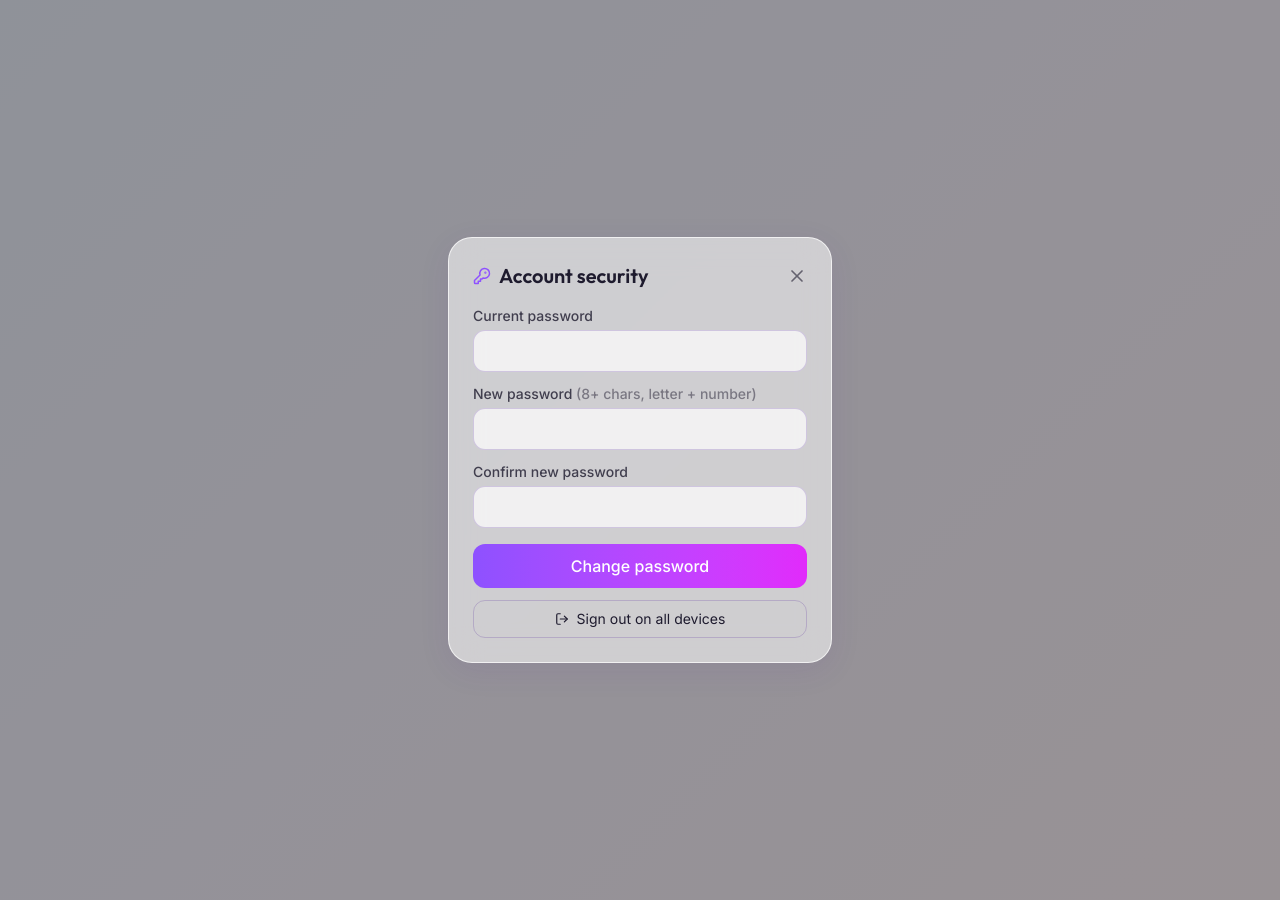
Scenario: ChangePassword dialog › submits and confirms success
This screenshot has width=1280, height=900.
Type "oldpass123" into the password field labelled "Current password".
click(640, 351); type("oldpass123")  # box [473,330,807,372]
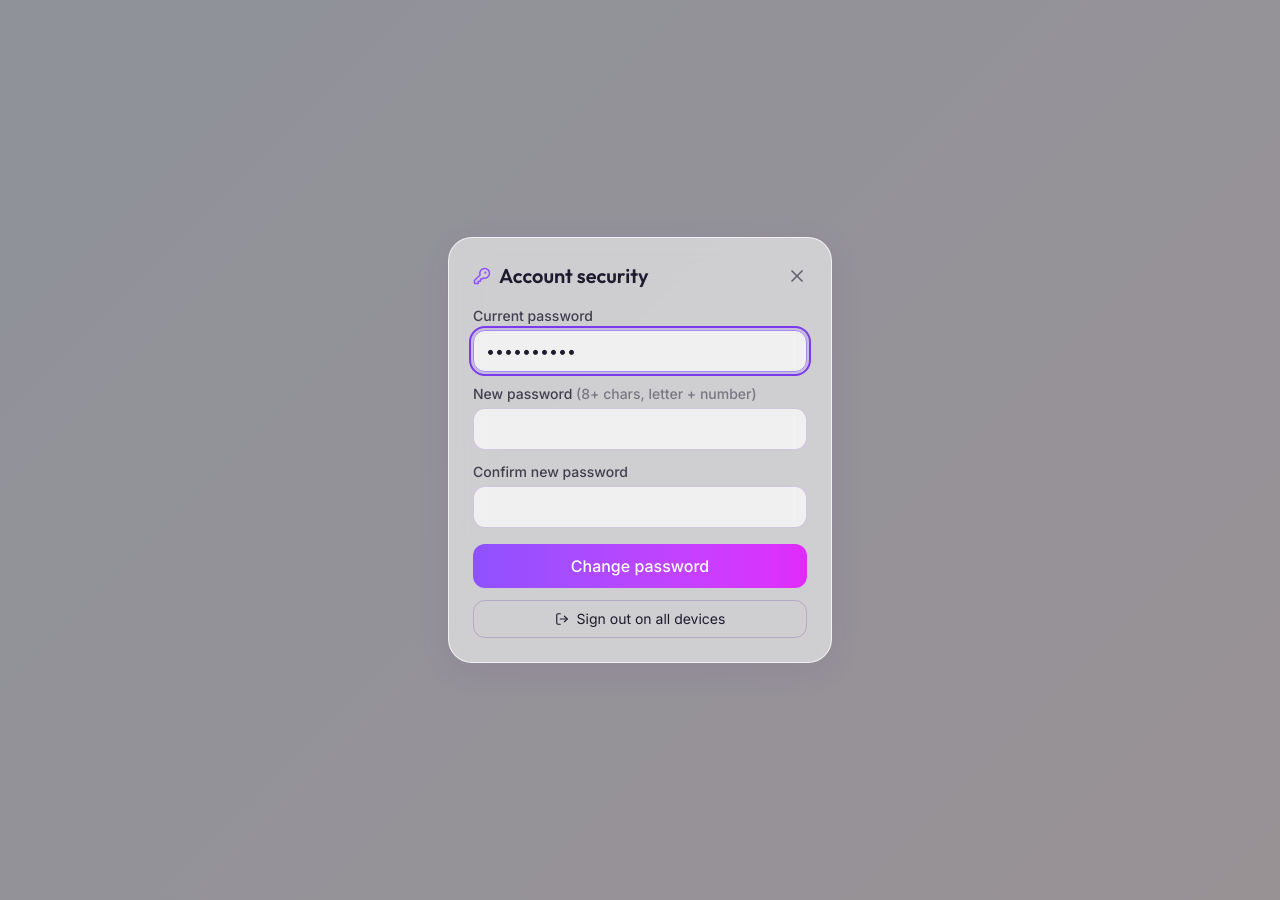
Type "newpass123" into the password field labelled "New password (8+ chars, letter + number)".
click(640, 429); type("newpass123")  # box [473,408,807,450]
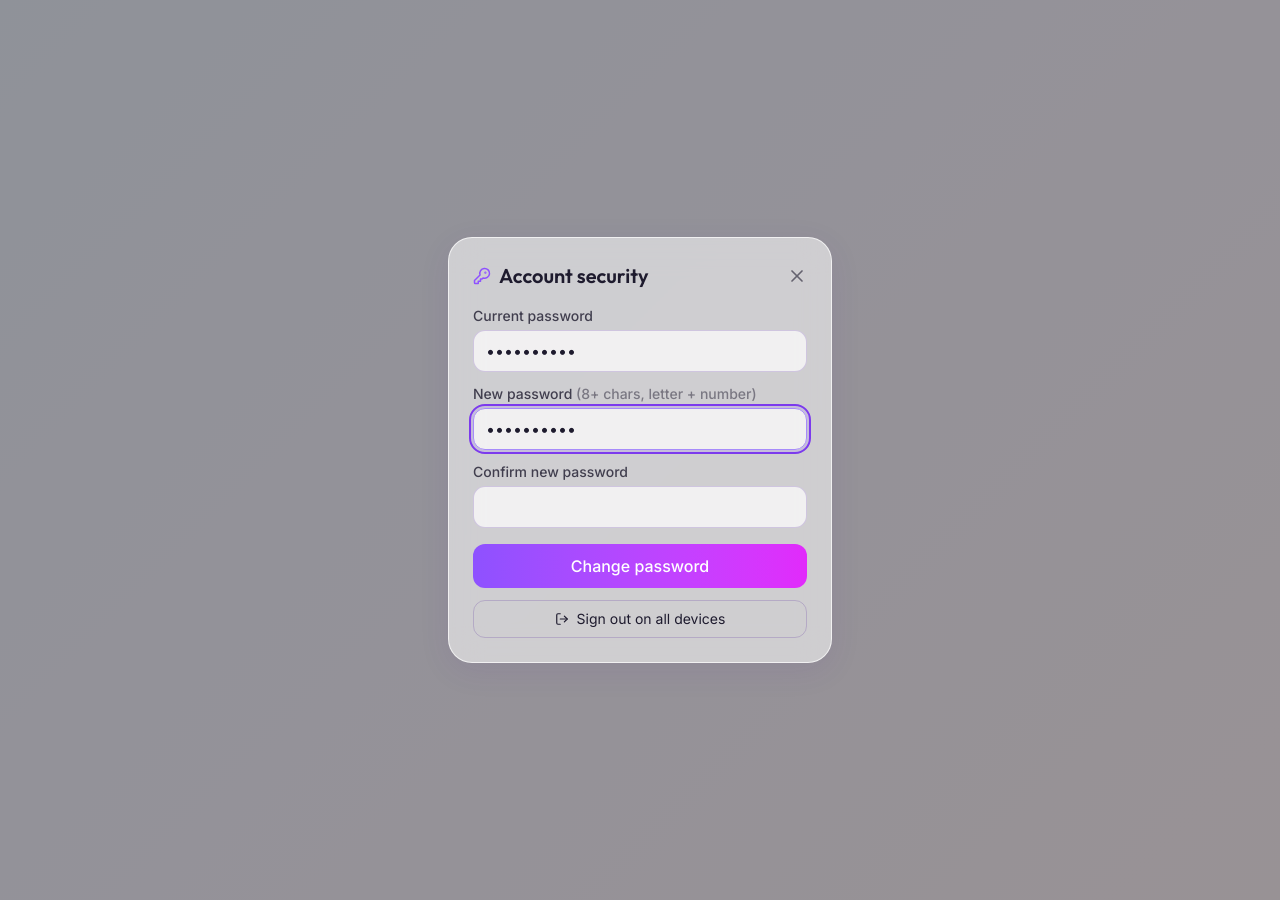
Type "newpass123" into the password field labelled "Confirm new password".
click(640, 507); type("newpass123")  # box [473,486,807,528]
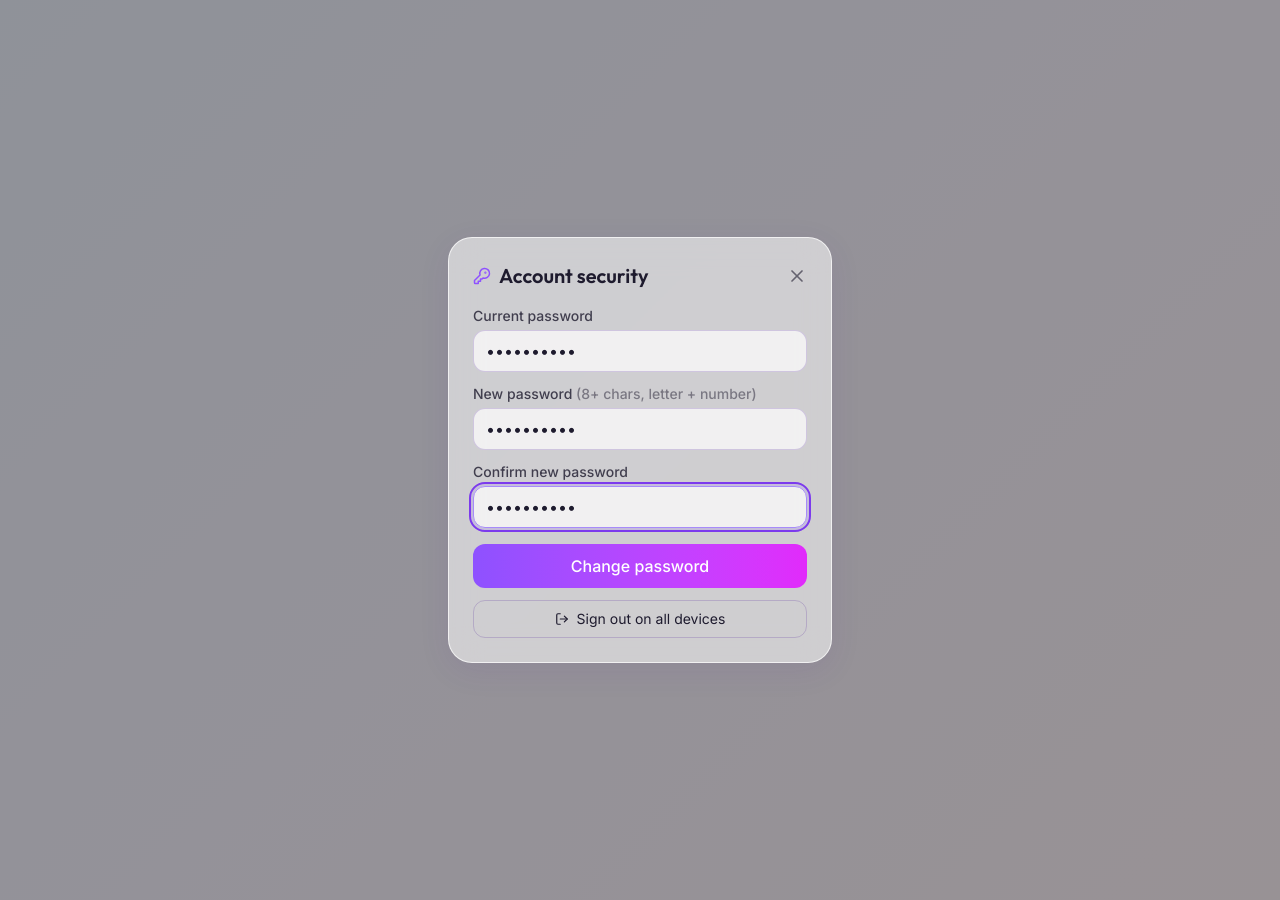
Click the button "Change password".
click(640, 566)  # box [473,544,807,588]
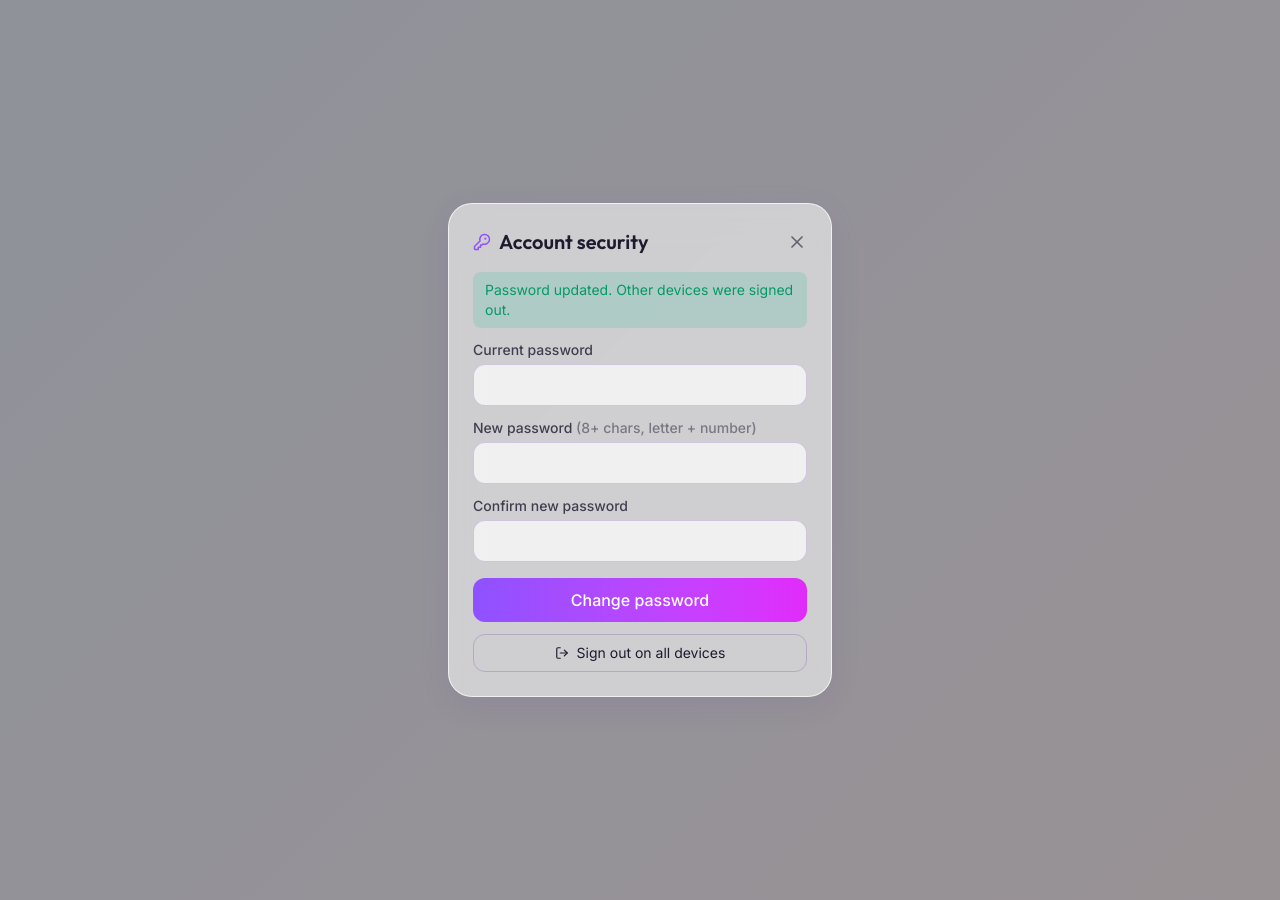
Check: the message shows "Other devices were signed out", box [485,281,793,318]
